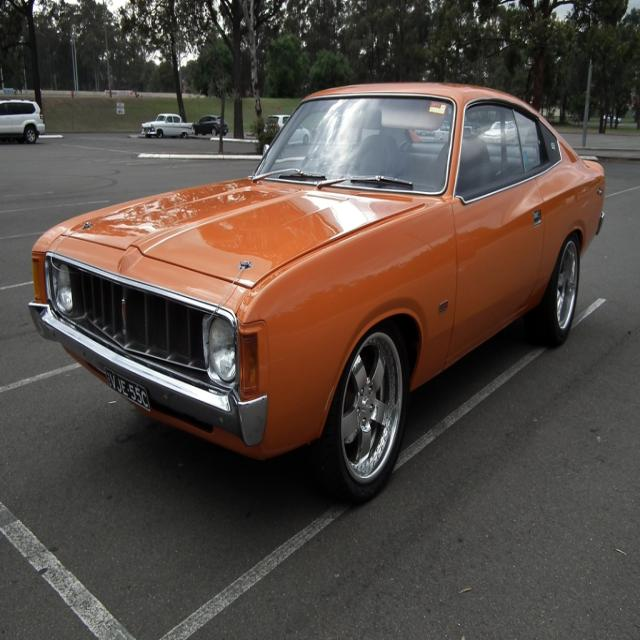car: (32, 97, 612, 502), (140, 112, 194, 138)
